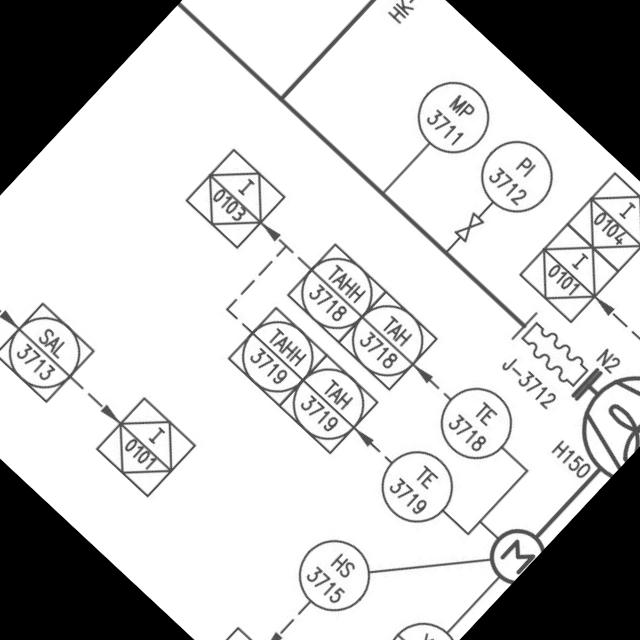EJ: (500, 302, 602, 402)
F: (555, 347, 640, 482)
GV: (448, 204, 492, 248)
M: (474, 512, 549, 588)
